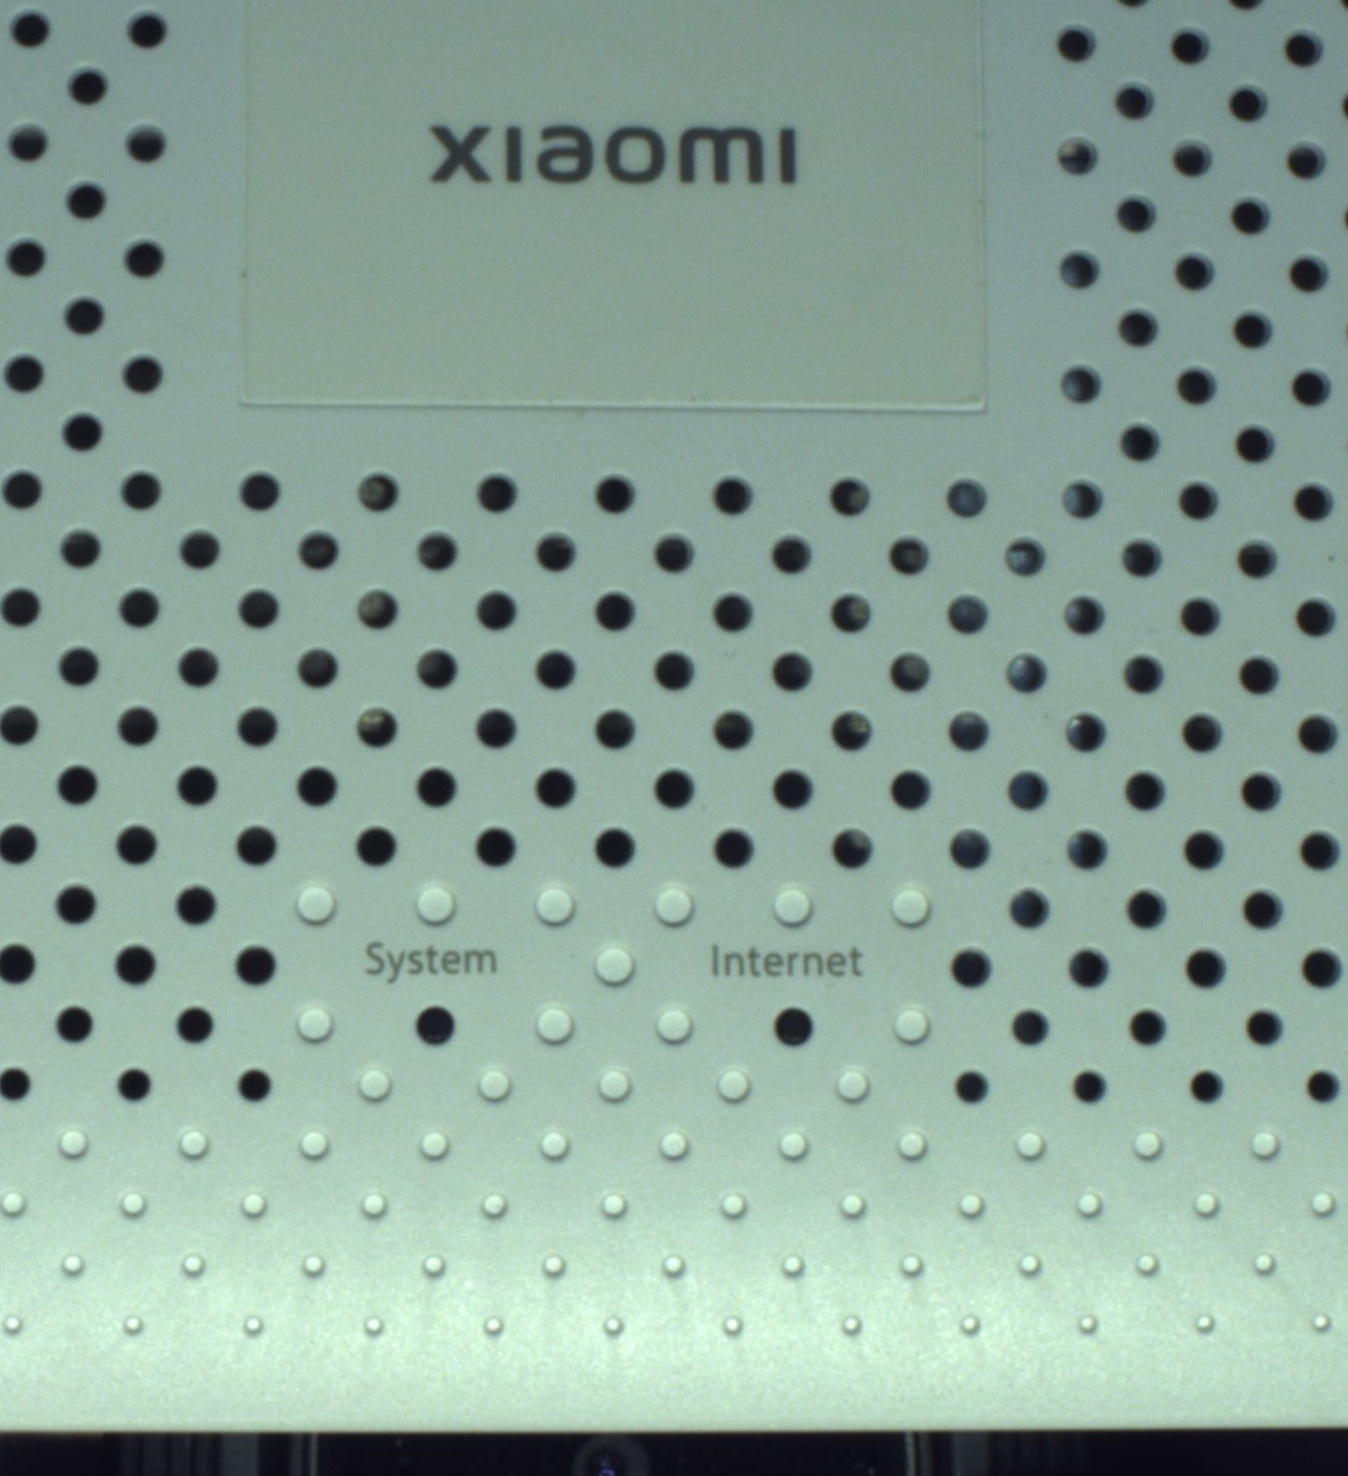MAB_OldUnicom: (408, 104, 832, 199)
